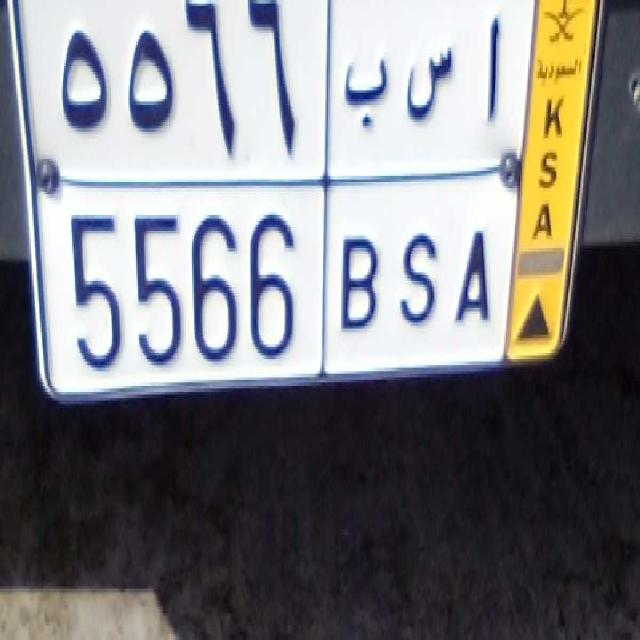license_plate: (51, 183, 518, 387)
